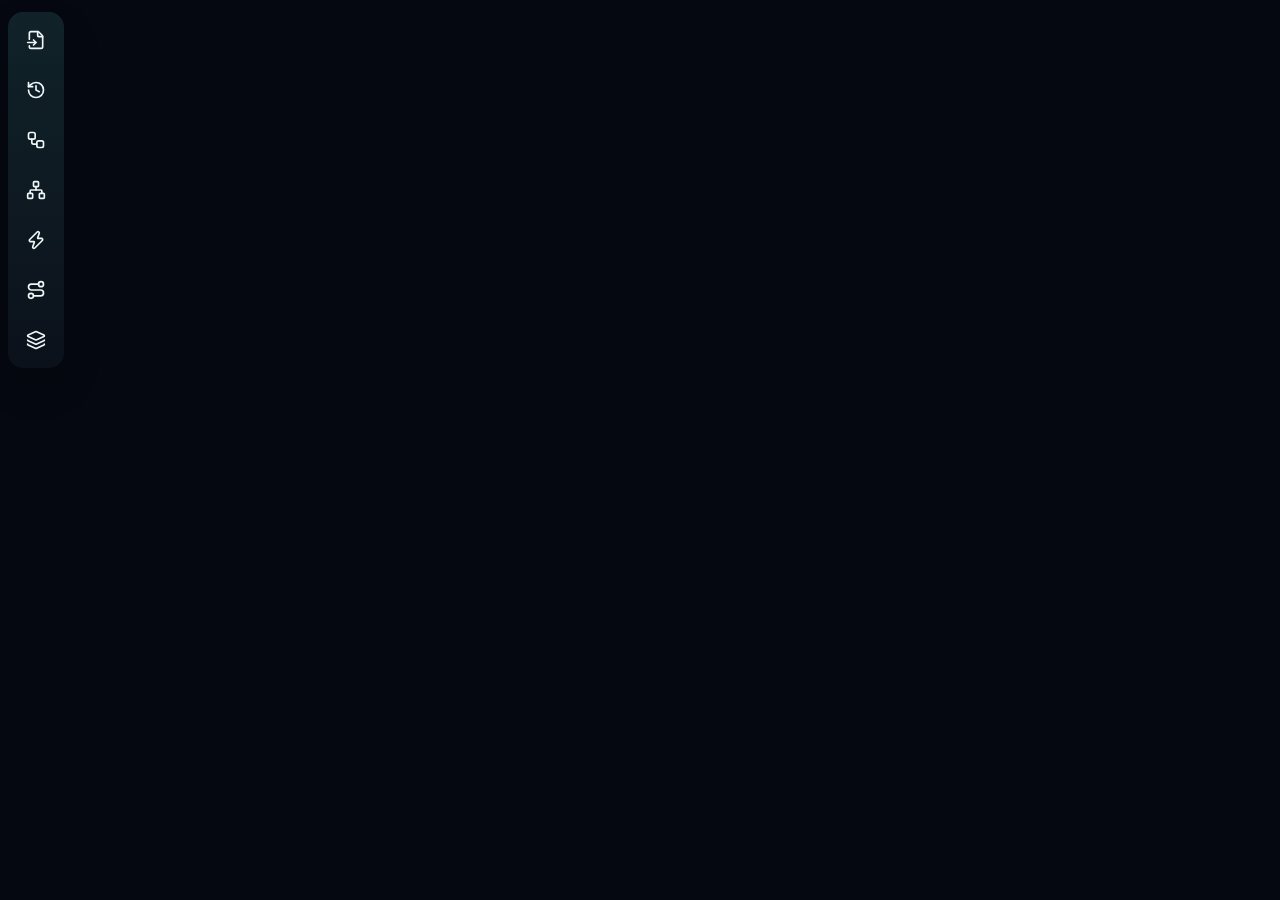
Test case: LeftPanel › confirms function deletion in an accessible in-app dialog without invoking browser confirm
Click the button named "Functions".
click(36, 140)  # box [14, 118, 58, 162]
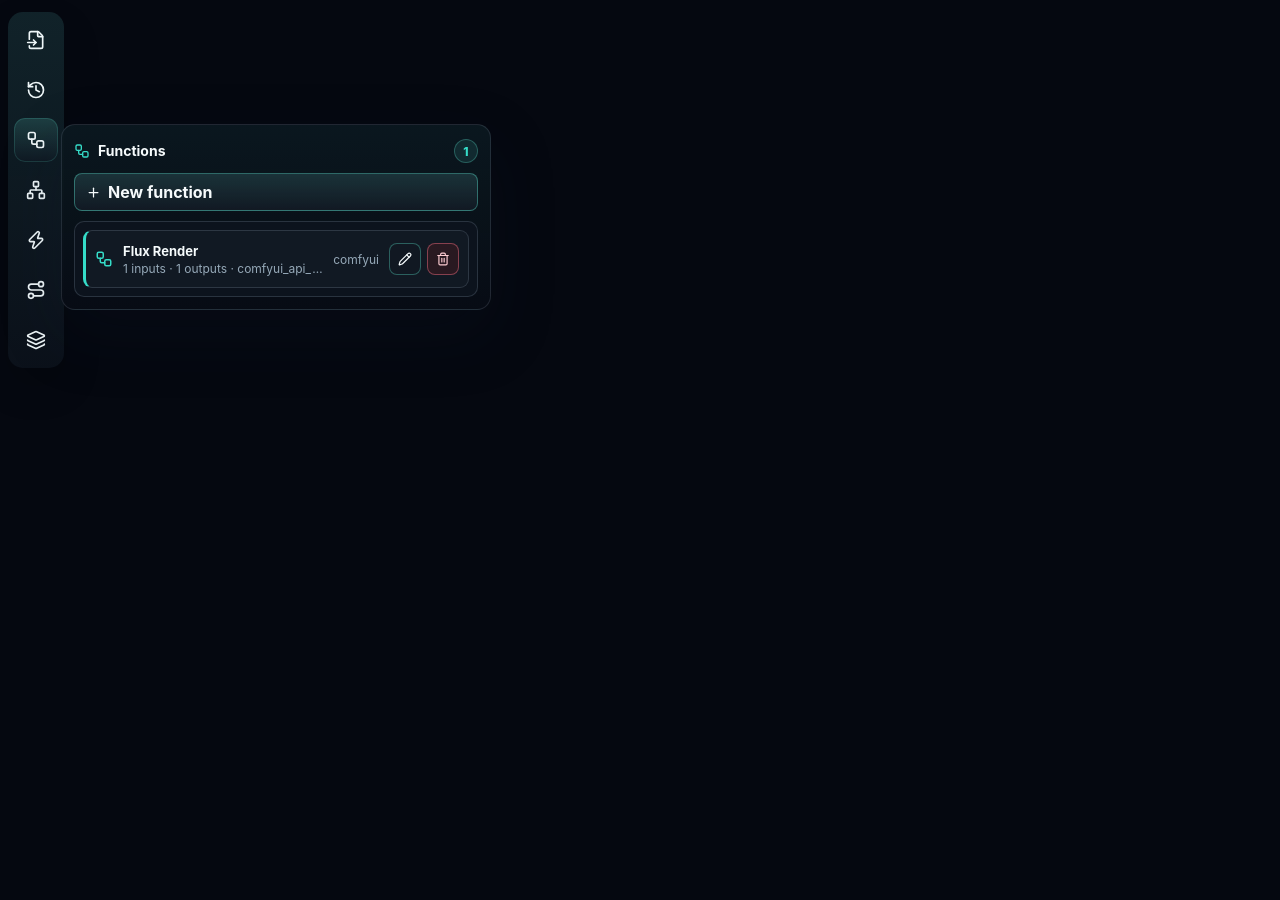
Click the button named "delete function flux render".
click(443, 259)  # box [427, 243, 459, 275]
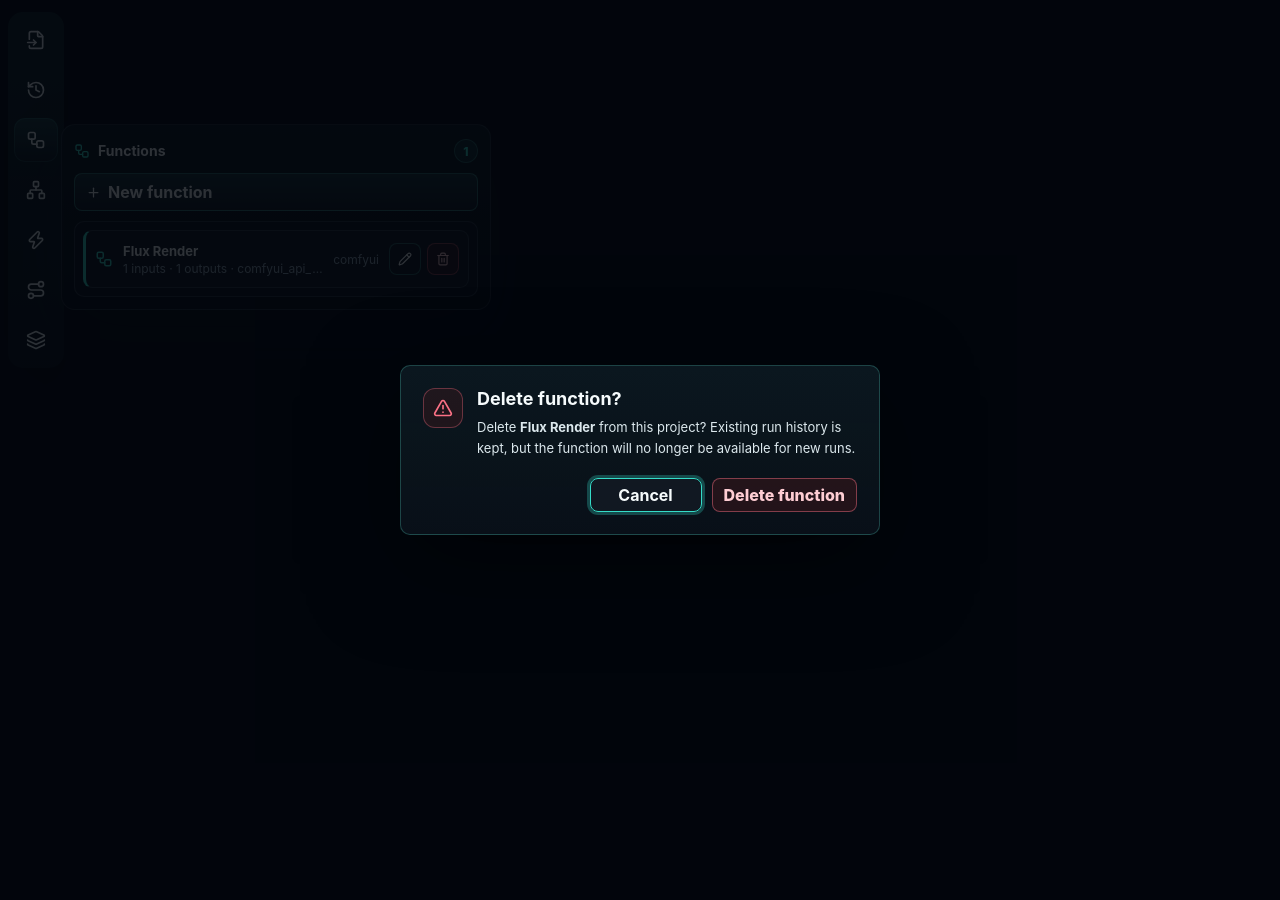
Expected: the heading "Delete function?" is shown, [477, 388, 622, 409]
Expected: the dialog "Delete function" shows "Flux Render", [520, 419, 595, 435]
Click the button "Cancel".
click(646, 495)  # box [590, 478, 702, 512]
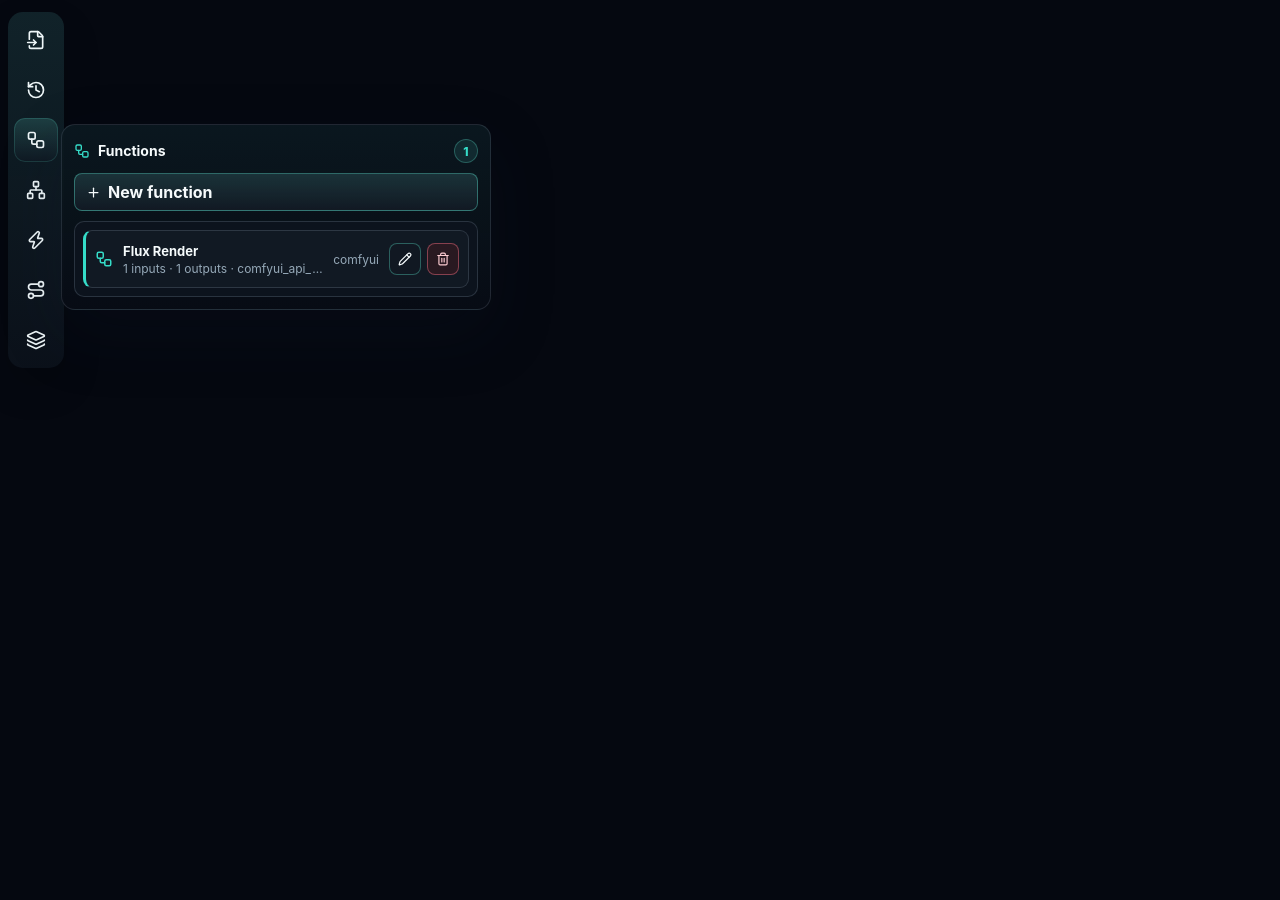
Expected: the heading "Delete function" is gone
Click the button named "delete function flux render".
click(443, 259)  # box [427, 243, 459, 275]
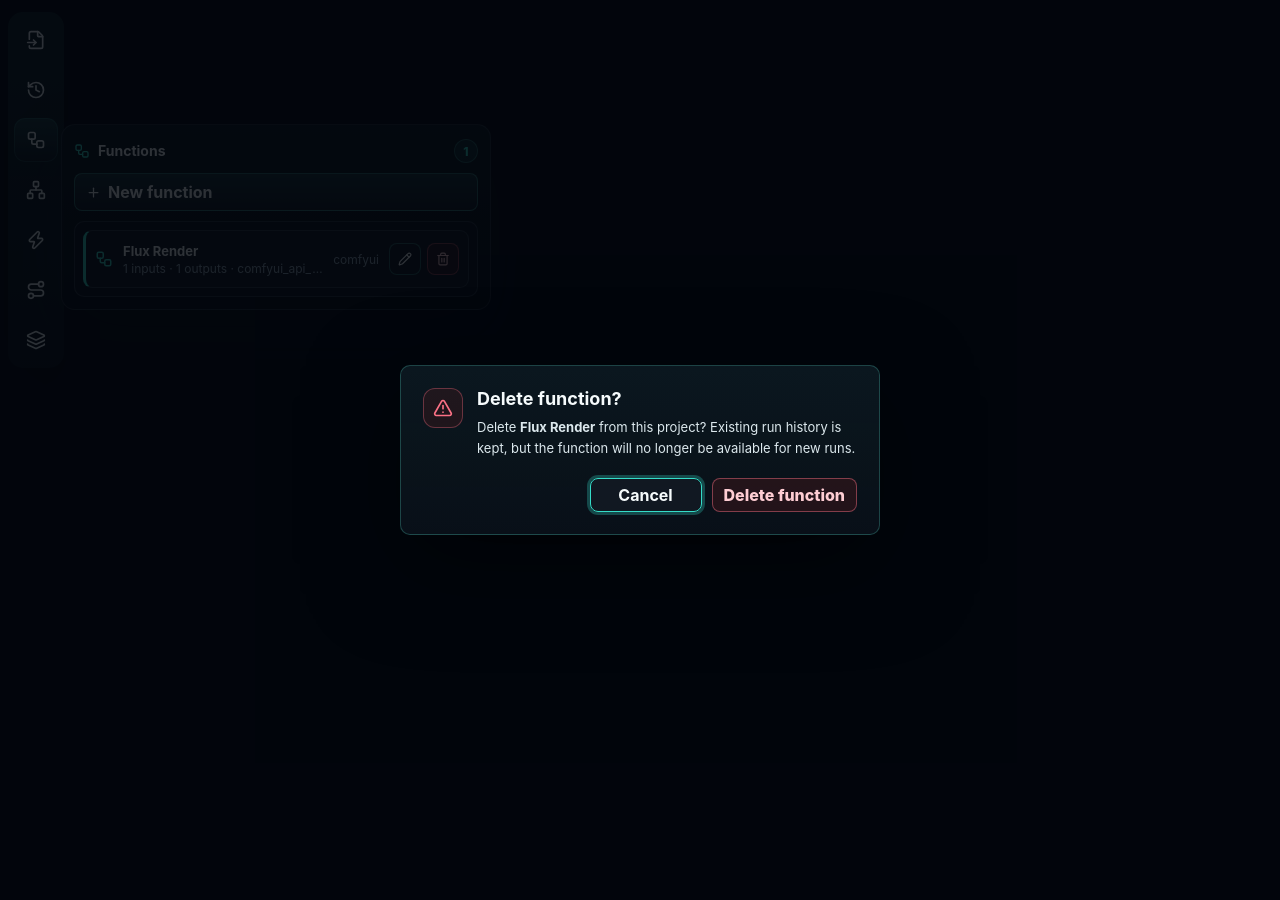
Click the button "Delete function".
click(784, 495)  # box [712, 478, 857, 512]
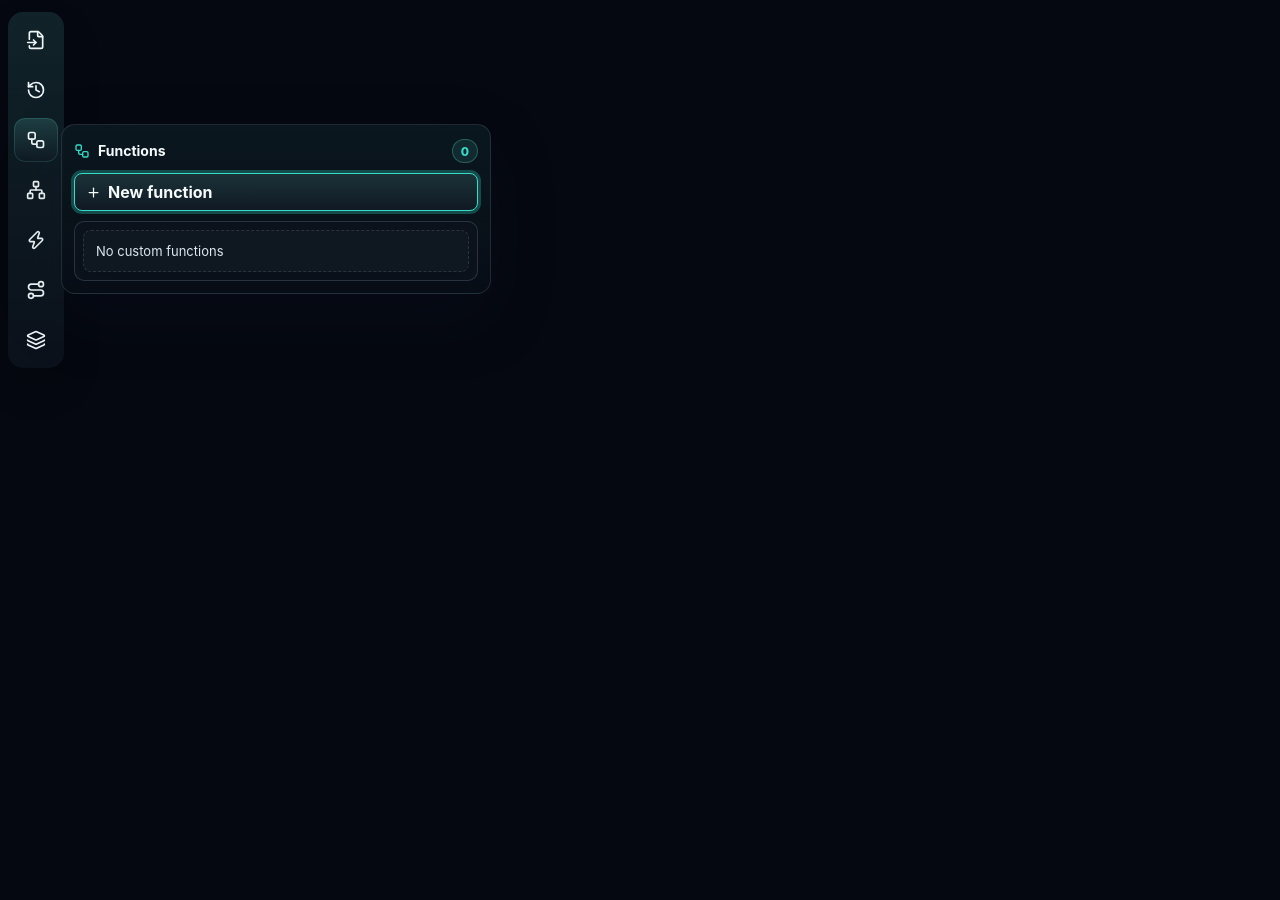
Expected: the button "New function" is shown, [74, 173, 478, 211]
Expected: the heading "Delete function" is gone
